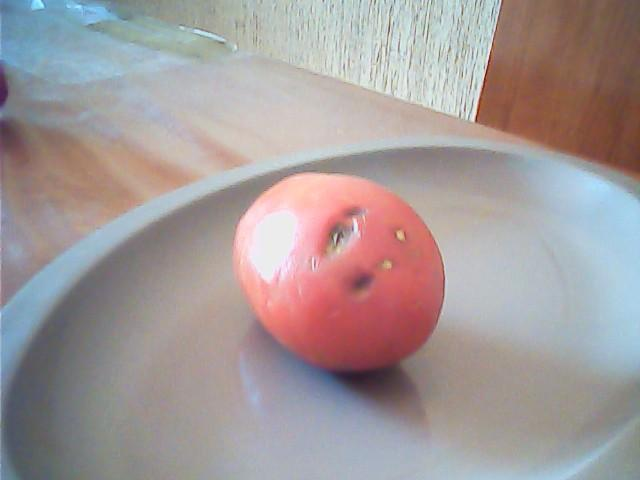defectuoso: (232, 175, 447, 375)
